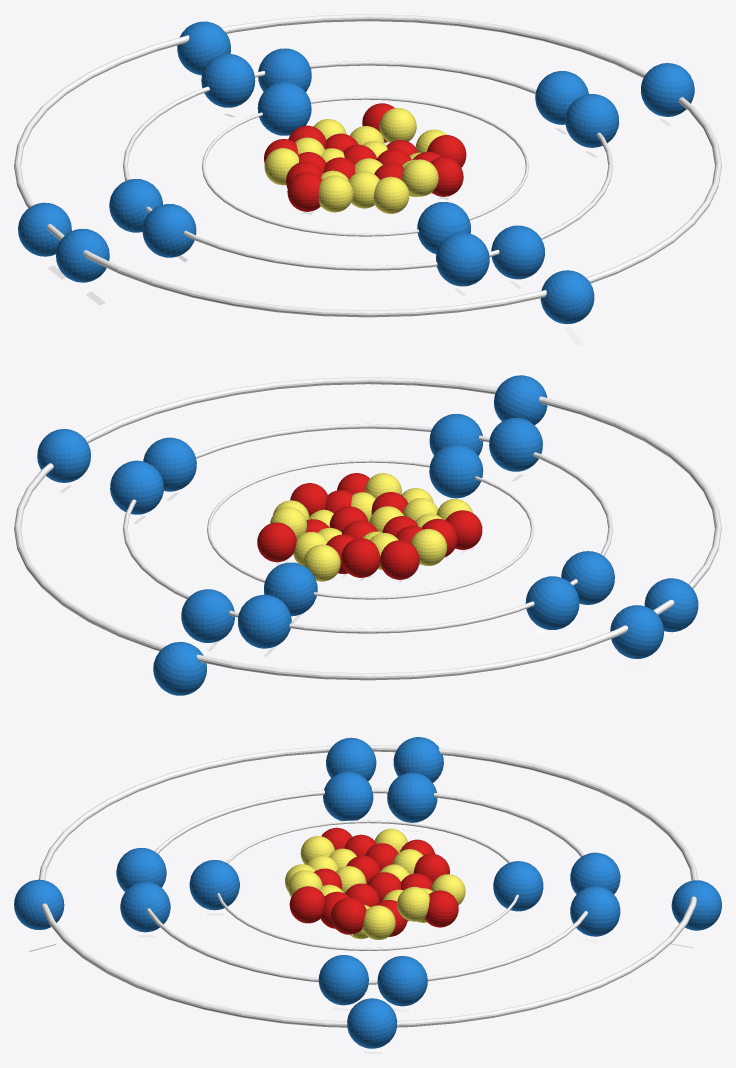
The picture shows the model from 3 angles, top to bottom: view 1: azimuth 30°, elevation 25°; view 2: azimuth 150°, elevation 25°; view 3: azimuth 270°, elevation 25°; orthographic projection. The views are drawn at different scales.
Visible parts, largest first — view 1: Torus.003, Torus.002, Torus.001, -.008, -.004, -.013, -.005, -.003, -.001, -.002, -.010, -.014 (+15 smaller); view 2: Torus.003, Torus.002, Torus.001, -.004, -, -.009, -.008, -.006, -.012, -.007, -.010, -.011 (+19 smaller); view 3: Torus.003, Torus.002, Torus.001, -.007, -.010, -.002, -.006, -.003, -.001, -, -.009, -.005 (+18 smaller).
Part boxes in pixels (x1,y1,x2,y2): Torus.003: (14, 14, 721, 317); Torus.002: (123, 60, 612, 270); Torus.001: (201, 96, 528, 236); -.008: (436, 232, 489, 286); -.004: (201, 54, 255, 107); -.013: (540, 270, 594, 324); -.005: (491, 225, 544, 279); -.003: (142, 204, 196, 257); -.001: (257, 82, 311, 135); -.002: (565, 94, 619, 147); -.010: (641, 63, 694, 116); -.014: (56, 228, 109, 282); Torus.003: (14, 377, 721, 680); Torus.002: (123, 423, 612, 633); Torus.001: (207, 459, 534, 599); -.004: (237, 594, 291, 648); -: (429, 444, 483, 498); -.009: (181, 589, 234, 642); -.008: (489, 418, 542, 471); -.006: (525, 576, 579, 629); -.012: (153, 642, 206, 695); -.007: (110, 460, 163, 514); -.010: (37, 429, 90, 482); -.011: (610, 605, 663, 658); Torus.003: (38, 745, 697, 1027); Torus.002: (146, 788, 587, 984); Torus.001: (217, 820, 518, 950); -.007: (377, 956, 427, 1006); -.010: (347, 998, 397, 1048); -.002: (318, 955, 368, 1005); -.006: (387, 772, 437, 822); -.003: (323, 771, 373, 821); -.001: (493, 861, 543, 911); -: (189, 860, 239, 910); -.009: (570, 886, 620, 936); -.005: (120, 882, 170, 932).
Bounding box in the file's own units: 6.42 × 0.7994 × 6.54.
